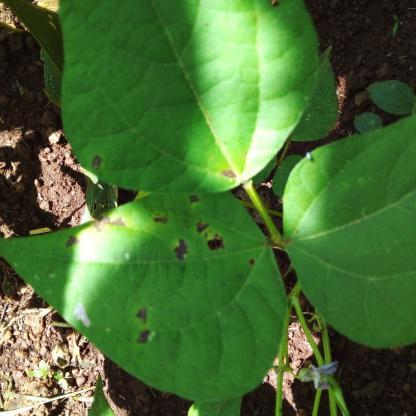Beans_Angular_LeafSpot: (0, 189, 283, 404), (61, 0, 321, 197)
